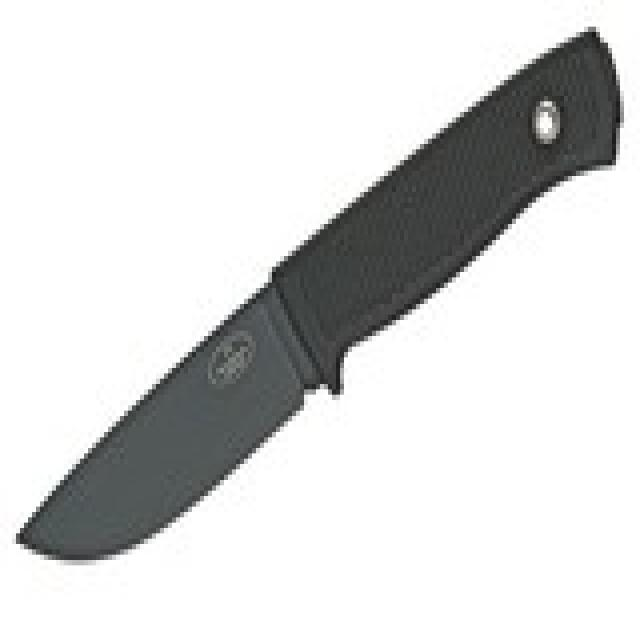Knife: (11, 35, 639, 577)
